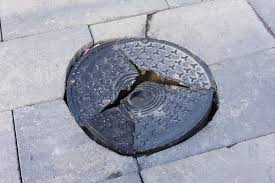Manhole-Closed: (59, 32, 227, 161)
